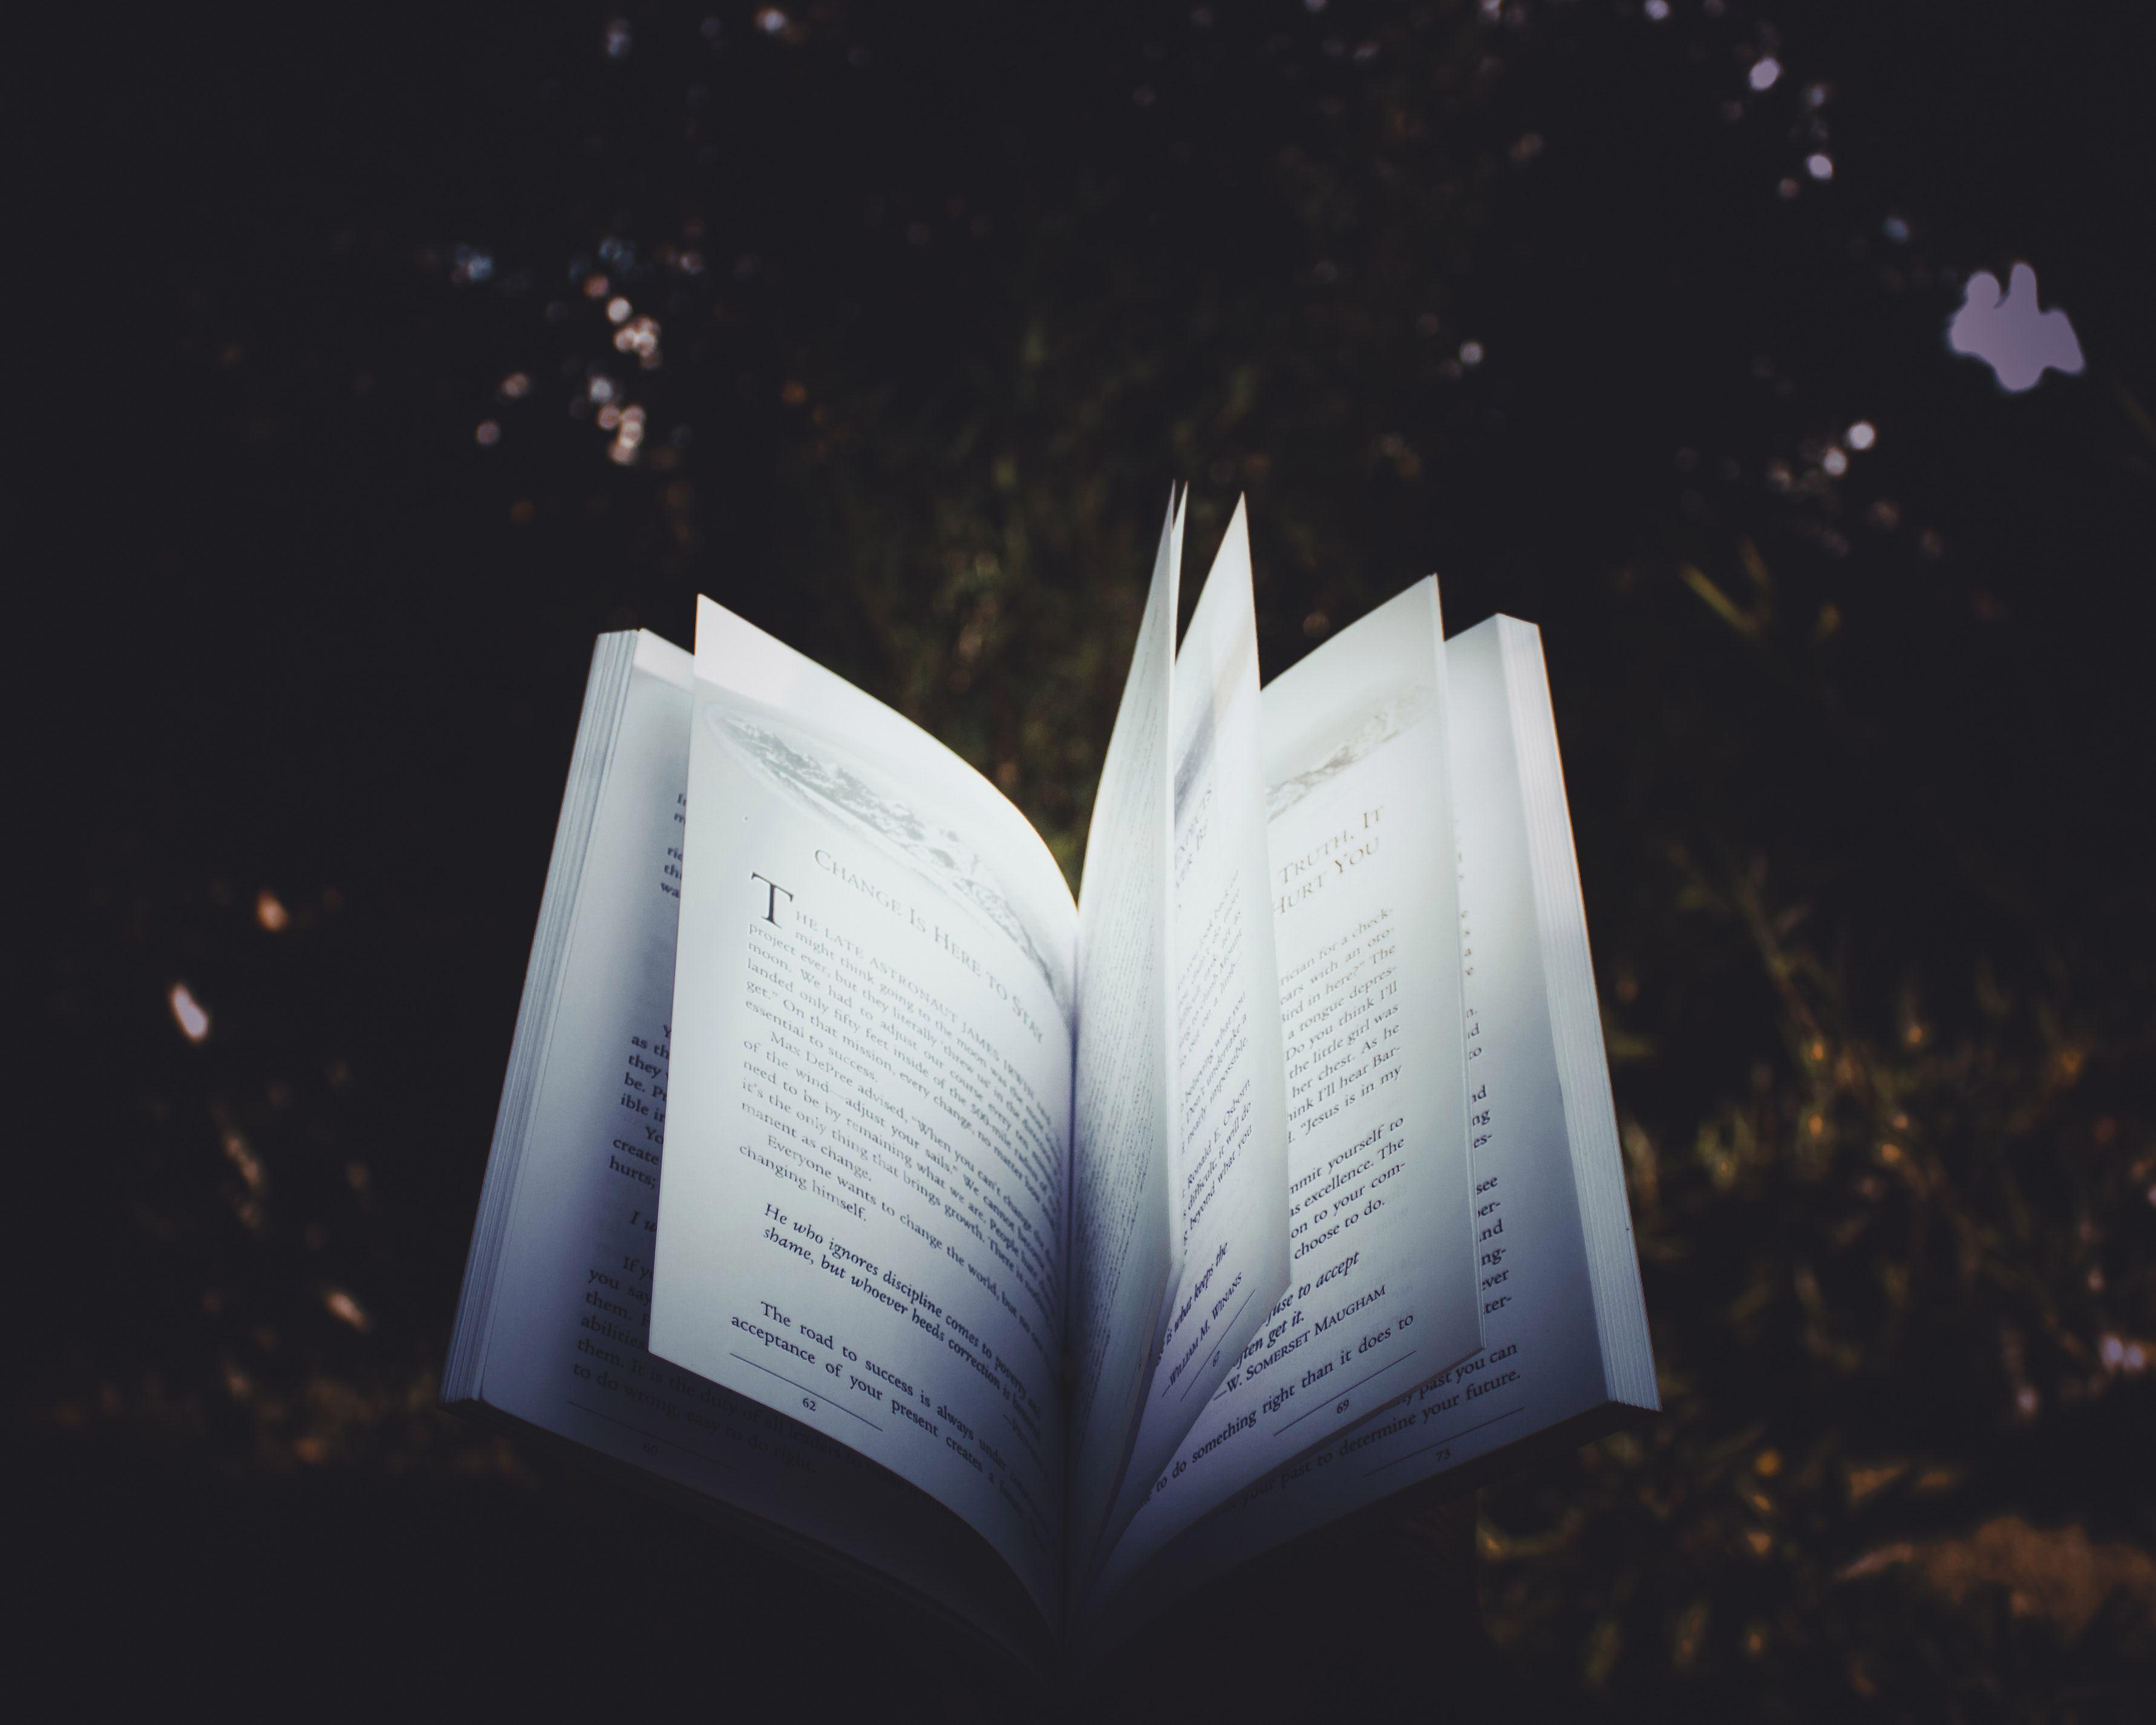book: (348, 408, 1802, 1681)
